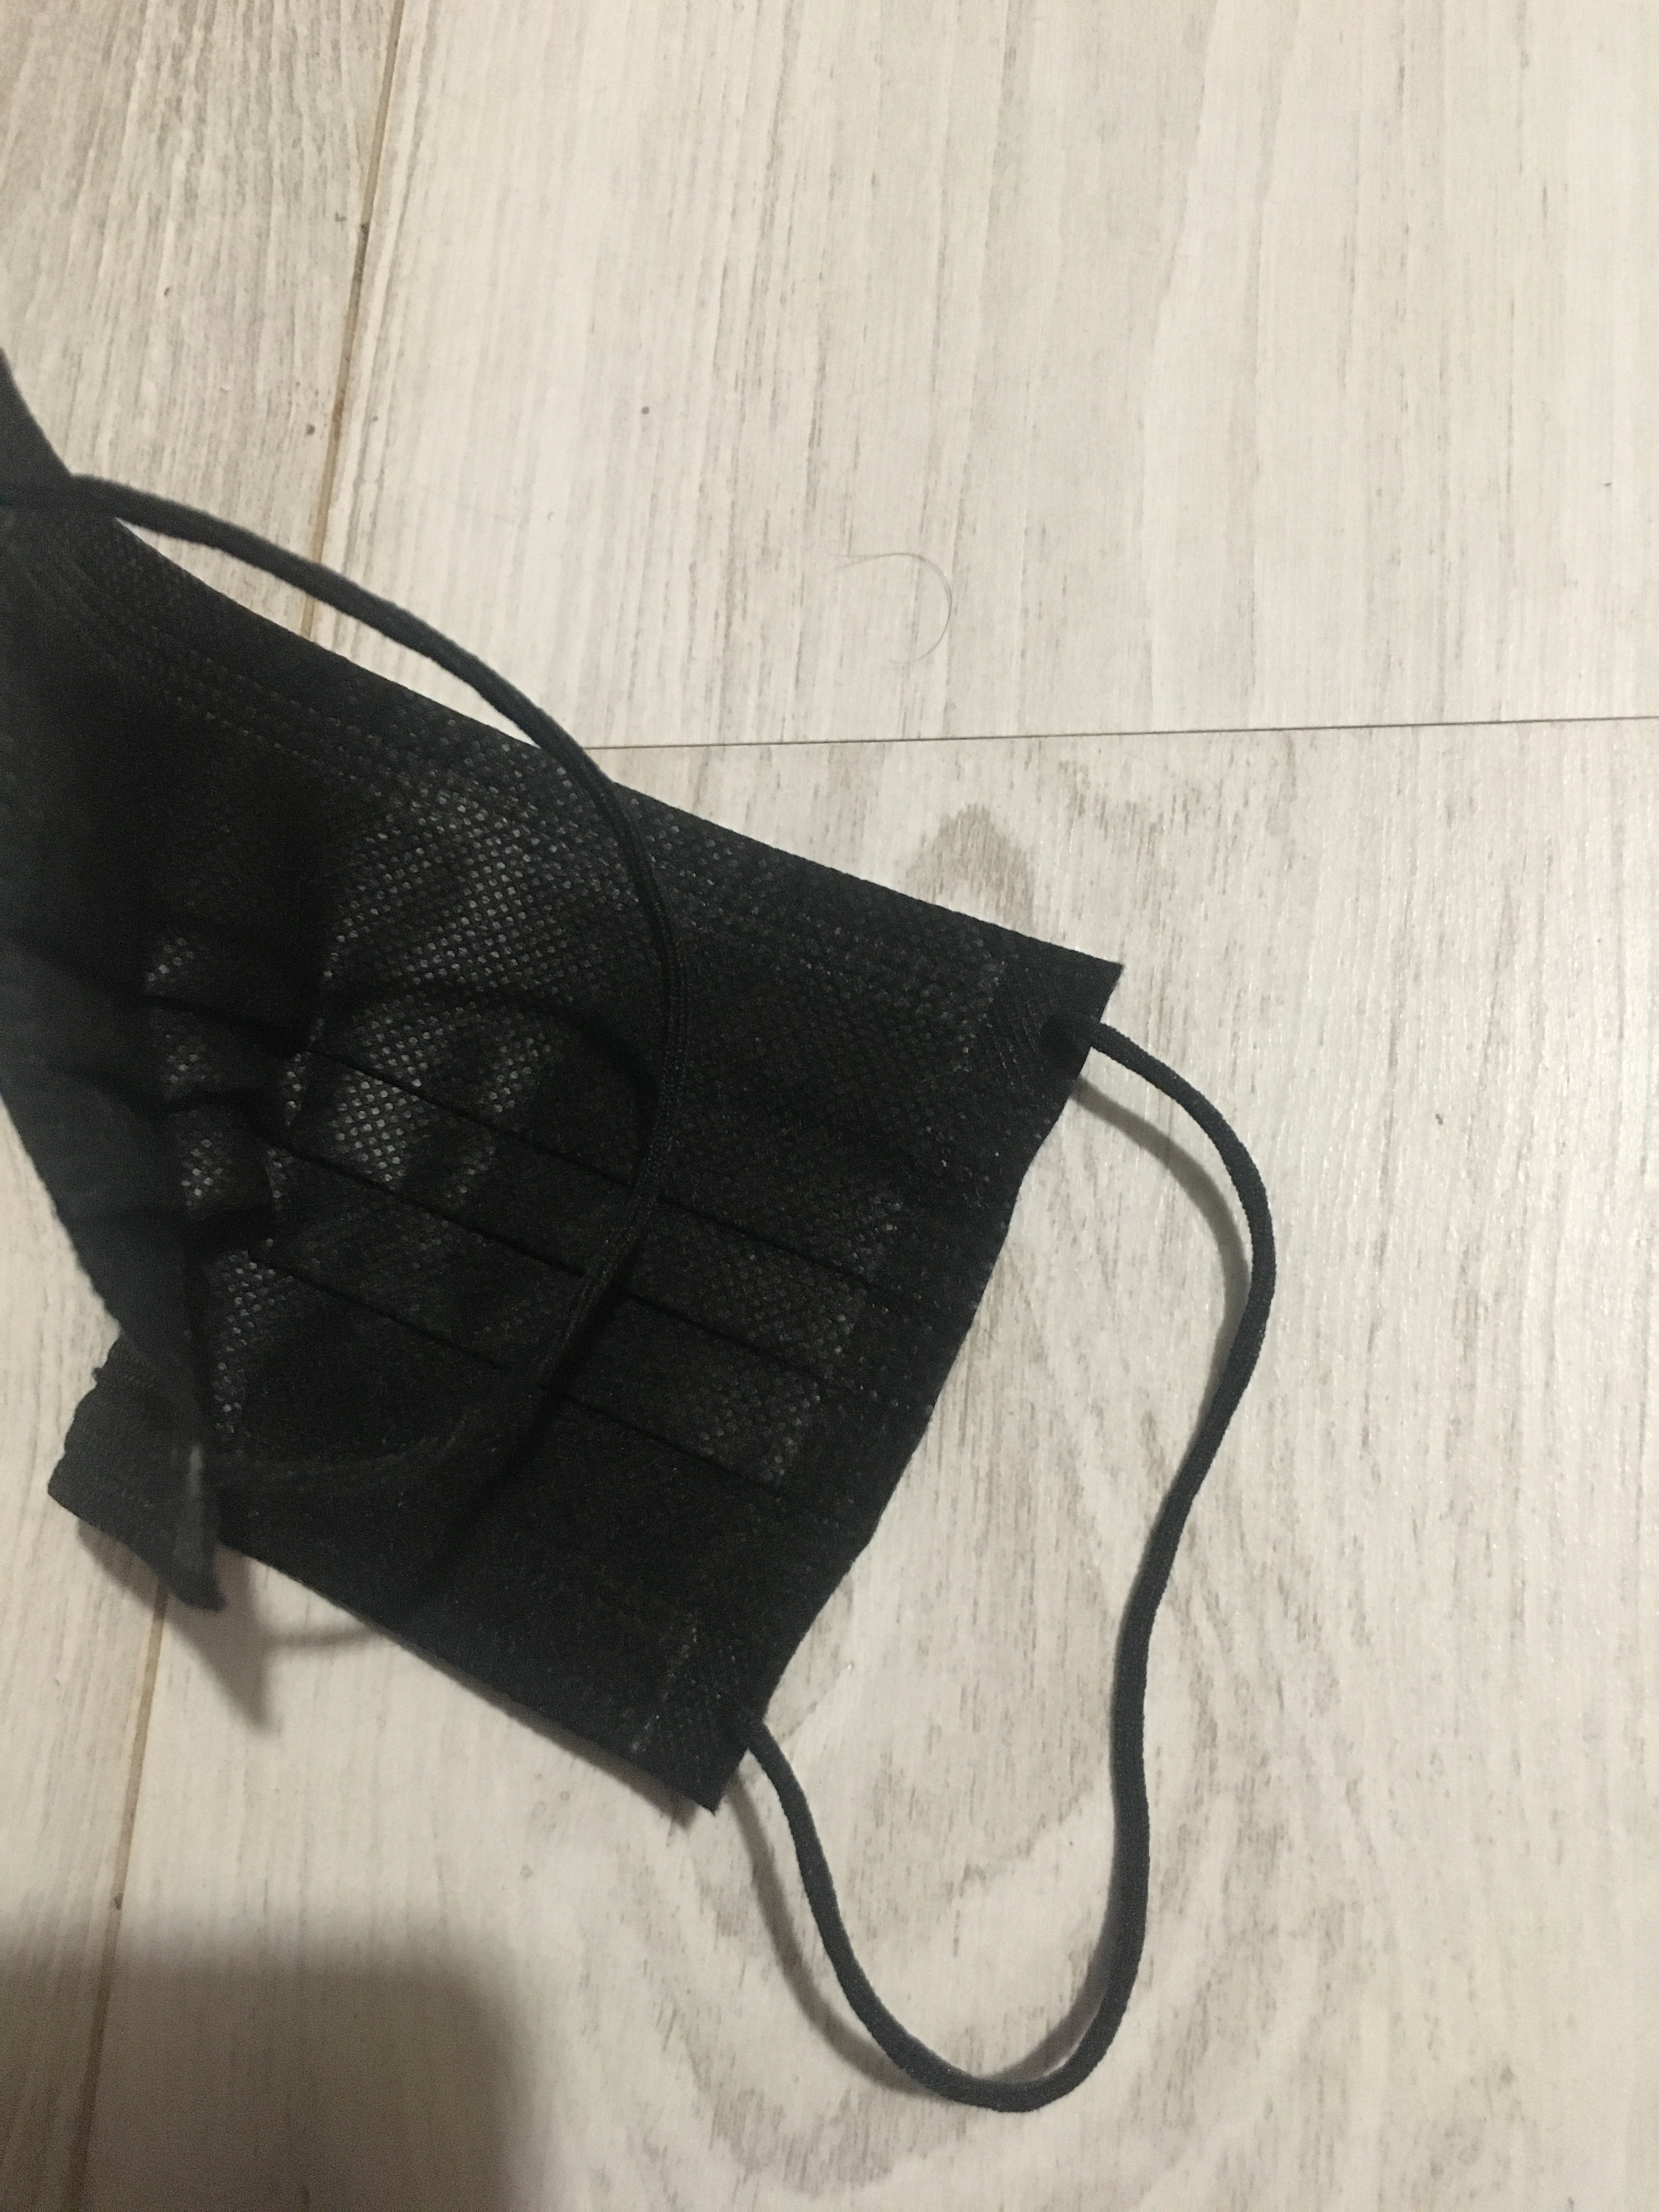trash: (5, 359, 1279, 2109)
